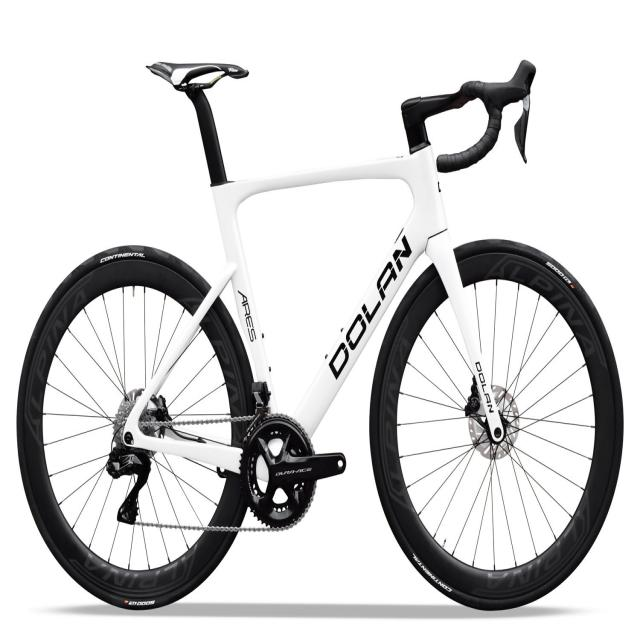road-bike: (14, 61, 622, 614)
